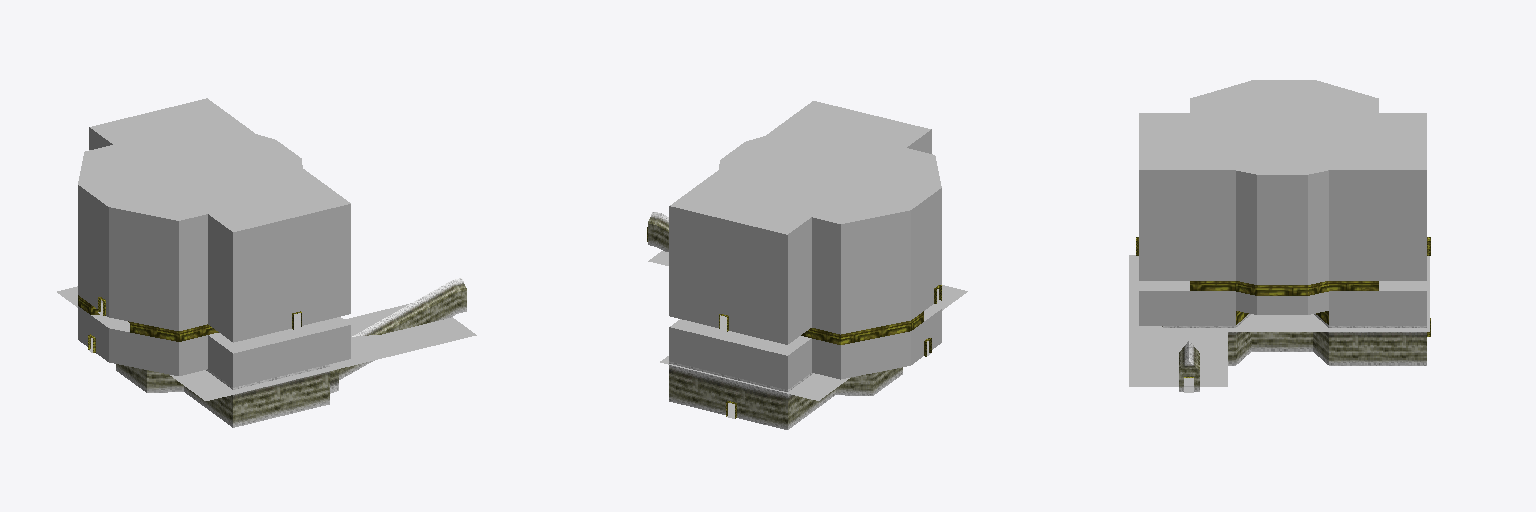
3 views of the same model, side by side, from view 1: azimuth 30°, elevation 25°; view 2: azimuth 150°, elevation 25°; view 3: azimuth 270°, elevation 25° (orthographic).
Parts seen in each view (by area): view 1: Floor2#Room6, Floor2#Room6#Water; view 2: Floor2#Room6, Floor2#Room6#Water; view 3: Floor2#Room6, Floor2#Room6#Water.
Part boxes in pixels (bbox=[...]): Floor2#Room6: bbox=[78, 98, 466, 427]; Floor2#Room6#Water: bbox=[57, 286, 476, 400]; Floor2#Room6: bbox=[647, 101, 941, 429]; Floor2#Room6#Water: bbox=[648, 251, 967, 400]; Floor2#Room6: bbox=[1136, 80, 1430, 391]; Floor2#Room6#Water: bbox=[1129, 255, 1429, 386].
Bounding box in the file's own units: 2278 × 1302 × 1816.
9 materials, 3 textured.